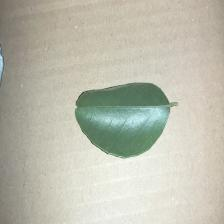healthy: (70, 77, 190, 168)
